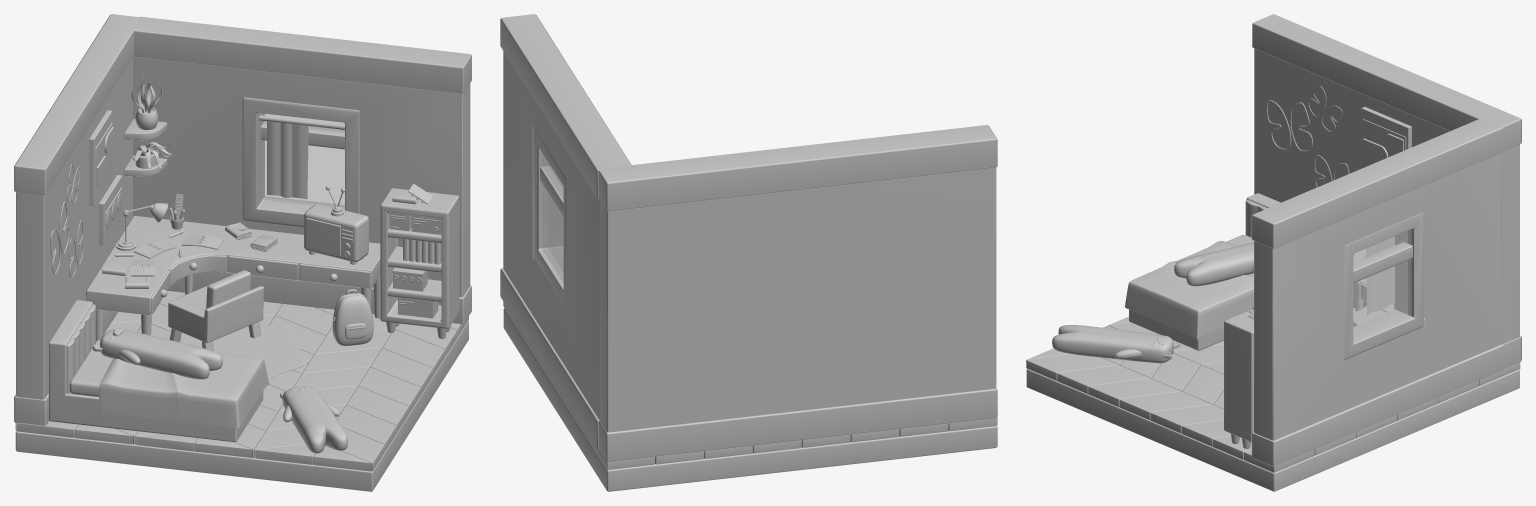
File: Study_Room_37.fbx
3 renders of one model, left to right at view 1: azimuth 30°, elevation 25°; view 2: azimuth 150°, elevation 25°; view 3: azimuth 270°, elevation 25°, orthographic. The views are drawn at different scales.
Parts seen in each view (by area): view 1: Room_37_Wall_2, Room_37_Wall_1, Room_37_Floor_2, Room_37_Bed_1, Room_37_Table_1, Room_37_Window_1, Room_37_Floor_1, Room_37_Cabinet_1, Room_37_Armchair_1, Room_37_Pillow_Toy_Bear_1, Room_37_Curtains_1, Room_37_TV_1 (+14 smaller); view 2: Room_37_Wall_1, Room_37_Wall_2, Room_37_Floor_1, Room_37_Window_1, Room_37_Floor_2; view 3: Room_37_Wall_2, Room_37_Wall_1, Room_37_Floor_2, Room_37_Floor_1, Room_37_Window_1, Room_37_Bed_1, Room_37_Cabinet_1, Room_37_Pillow_Toy_Cat_1, Room_37_Pillow_Toy_Bear_1, Room_37_Painting_1, Room_37_Curtains_1, Room_37_Table_1.
Part boxes in pixels (x1,y1,x2,y2): Room_37_Wall_2: [133, 16, 471, 324]; Room_37_Wall_1: [14, 14, 140, 425]; Room_37_Floor_2: [15, 291, 468, 471]; Room_37_Bed_1: [48, 300, 269, 442]; Room_37_Table_1: [86, 216, 380, 340]; Room_37_Window_1: [242, 97, 359, 226]; Room_37_Floor_1: [15, 321, 468, 491]; Room_37_Cabinet_1: [380, 188, 459, 338]; Room_37_Armchair_1: [168, 270, 263, 350]; Room_37_Pillow_Toy_Bear_1: [92, 328, 222, 379]; Room_37_Curtains_1: [259, 115, 344, 199]; Room_37_TV_1: [304, 185, 368, 264]; Room_37_Wall_1: [598, 125, 997, 461]; Room_37_Wall_2: [500, 14, 631, 449]; Room_37_Floor_1: [503, 308, 997, 491]; Room_37_Window_1: [534, 127, 566, 307]; Room_37_Floor_2: [503, 301, 997, 469]; Room_37_Wall_2: [1251, 118, 1503, 466]; Room_37_Wall_1: [1252, 14, 1521, 368]; Room_37_Floor_2: [1026, 308, 1520, 472]; Room_37_Floor_1: [1026, 368, 1519, 491]; Room_37_Window_1: [1344, 212, 1423, 359]; Room_37_Bed_1: [1125, 193, 1280, 350]; Room_37_Cabinet_1: [1224, 309, 1253, 448]; Room_37_Pillow_Toy_Cat_1: [1052, 325, 1180, 363]; Room_37_Pillow_Toy_Bear_1: [1174, 242, 1253, 286]; Room_37_Painting_1: [1361, 107, 1411, 168]; Room_37_Curtains_1: [1366, 236, 1394, 315]; Room_37_Table_1: [1345, 248, 1424, 360].
Size of the model in its own units: 708 by 423 by 705.
